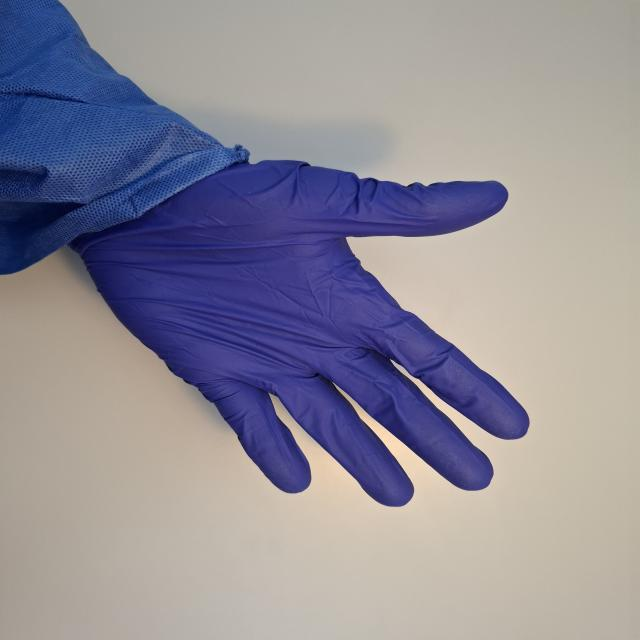glove_on: (64, 152, 534, 510)
